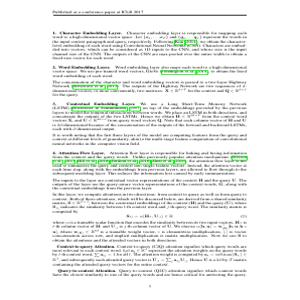text: (46, 28, 251, 279)
